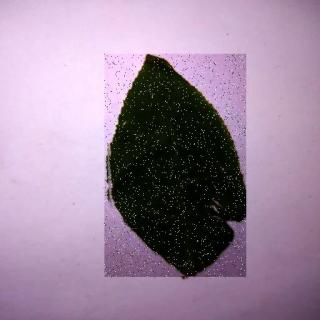Bird Eye Spot: (106, 55, 248, 279)
